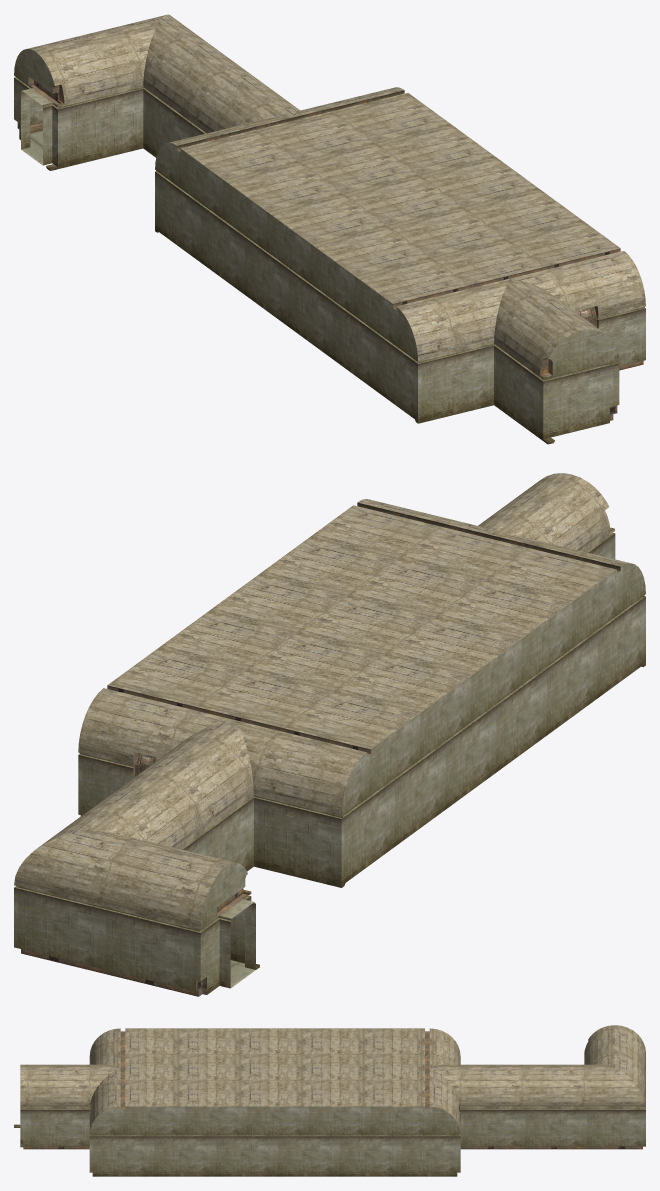
The model's file is poi_all_bunker_allum_mine_r30_smallroom_71_mesh_r30.fbx.
The picture shows the model from 3 angles, top to bottom: view 1: azimuth 30°, elevation 25°; view 2: azimuth 150°, elevation 25°; view 3: azimuth 270°, elevation 25°; orthographic projection. The views are drawn at different scales.
Parts seen in each view (by area): view 1: mesh_node; view 2: mesh_node; view 3: mesh_node.
Boxes of the visible parts, bbox=[...] form: mesh_node: bbox=[14, 14, 645, 444]; mesh_node: bbox=[14, 473, 645, 996]; mesh_node: bbox=[14, 1025, 645, 1176].
Size of the model in its own units: 13 by 5.1 by 40.9.
